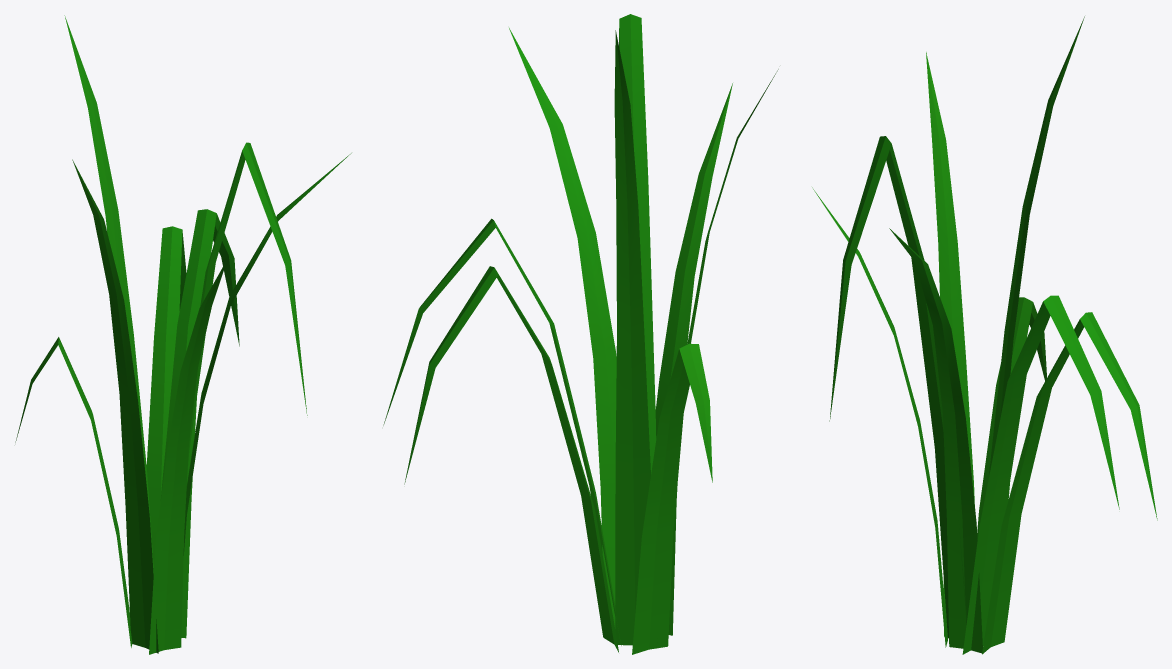
Rendered from Grass1.fbx.
3 renders of one model, left to right at view 1: azimuth 30°, elevation 25°; view 2: azimuth 150°, elevation 25°; view 3: azimuth 270°, elevation 25°, orthographic. The views are drawn at different scales.
Parts seen in each view (by area): view 1: Grass5; view 2: Grass5; view 3: Grass5.
Boxes of the visible parts, box(x1,y1,x2,y2) form: Grass5: box(15, 15, 351, 654); Grass5: box(383, 14, 778, 654); Grass5: box(812, 16, 1157, 654).
Bounding box in the file's own units: 31.96 × 69.1 × 35.68.
Materials: 1 (1 with a texture image).
